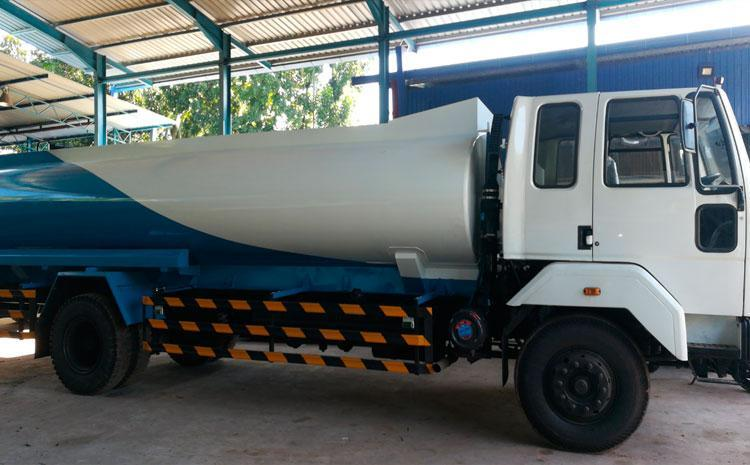truck: (1, 87, 750, 454)
